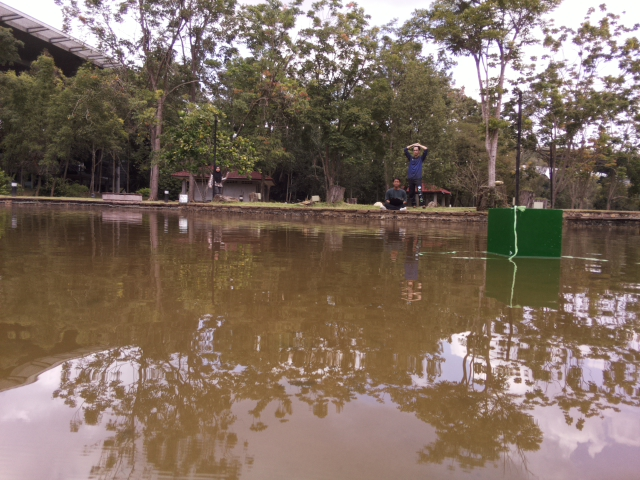obstacle: (486, 207, 564, 260)
